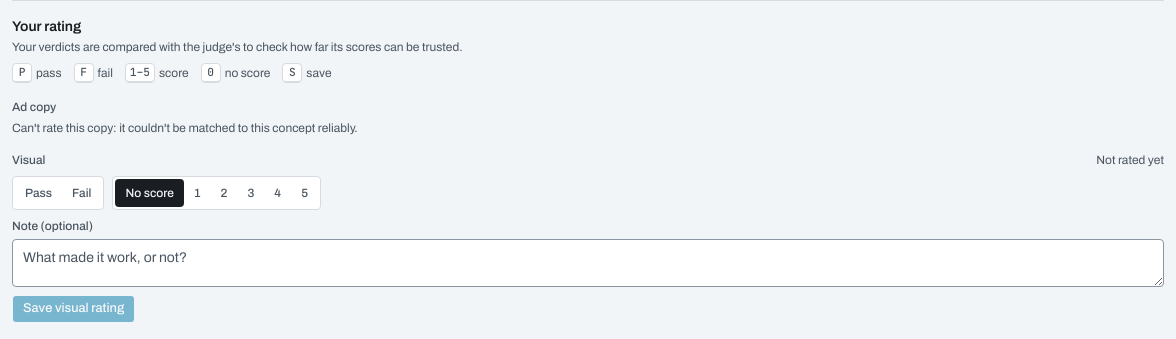
Test: CreativeRatings › disables the ad copy rating with a reason when the copy was only paired by position
Expected: the element with test id "rating-ad_copy" shows "Ad copy", x1=12 y1=100 x2=56 y2=114
Expected: the element with test id "rating-ad_copy" shows "Can't rate this copy: it couldn't be matched to this concept reliably.", x1=12 y1=120 x2=358 y2=134
the visual rating still works
Click the button "Pass".
click(39, 193)  # box x1=15 y1=179 x2=62 y2=207
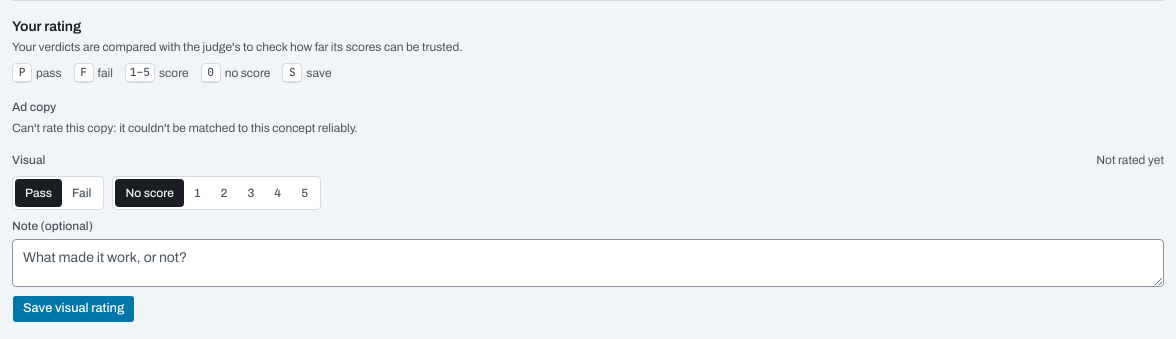
Now the button "Save visual rating" is enabled, box x1=12 y1=294 x2=135 y2=322
